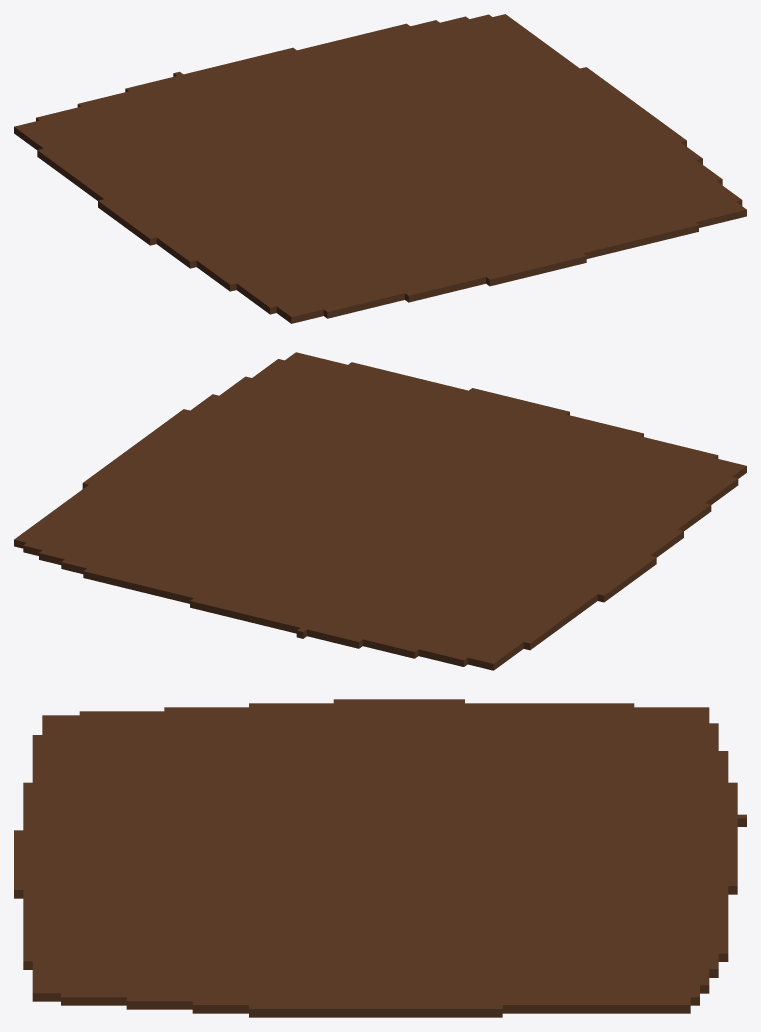
Rendered from leather.glb.
3 renders of one model, top to bottom at view 1: azimuth 30°, elevation 25°; view 2: azimuth 150°, elevation 25°; view 3: azimuth 270°, elevation 25°, orthographic. The views are drawn at different scales.
Parts seen in each view (by area): view 1: leather:compound; view 2: leather:compound; view 3: leather:compound.
Boxes of the visible parts, x1,y1,x2,y2 form: leather:compound: (14,14,746,323); leather:compound: (14,352,746,670); leather:compound: (14,699,746,1017).
Size of the model in its own units: 0.156 by 0.002 by 0.156.
